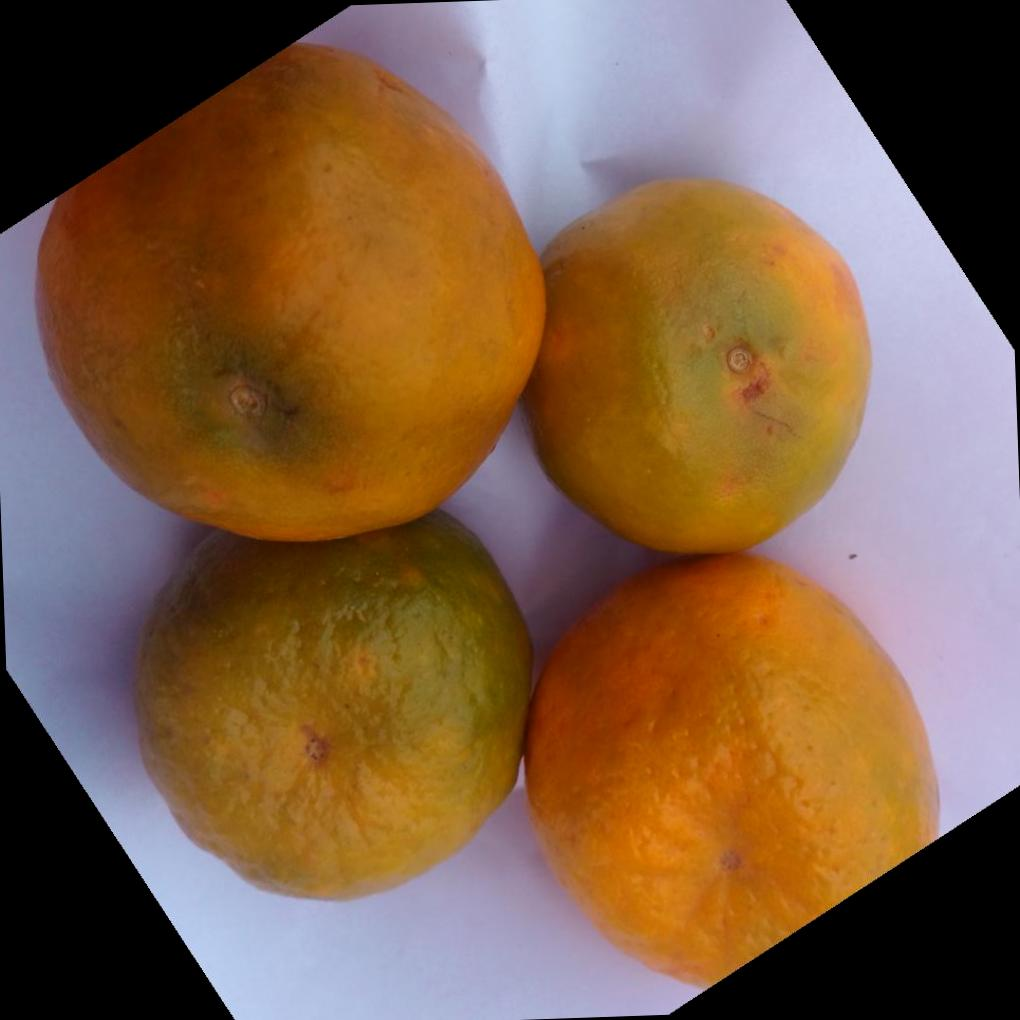FreshGuava: (30, 40, 936, 989)
